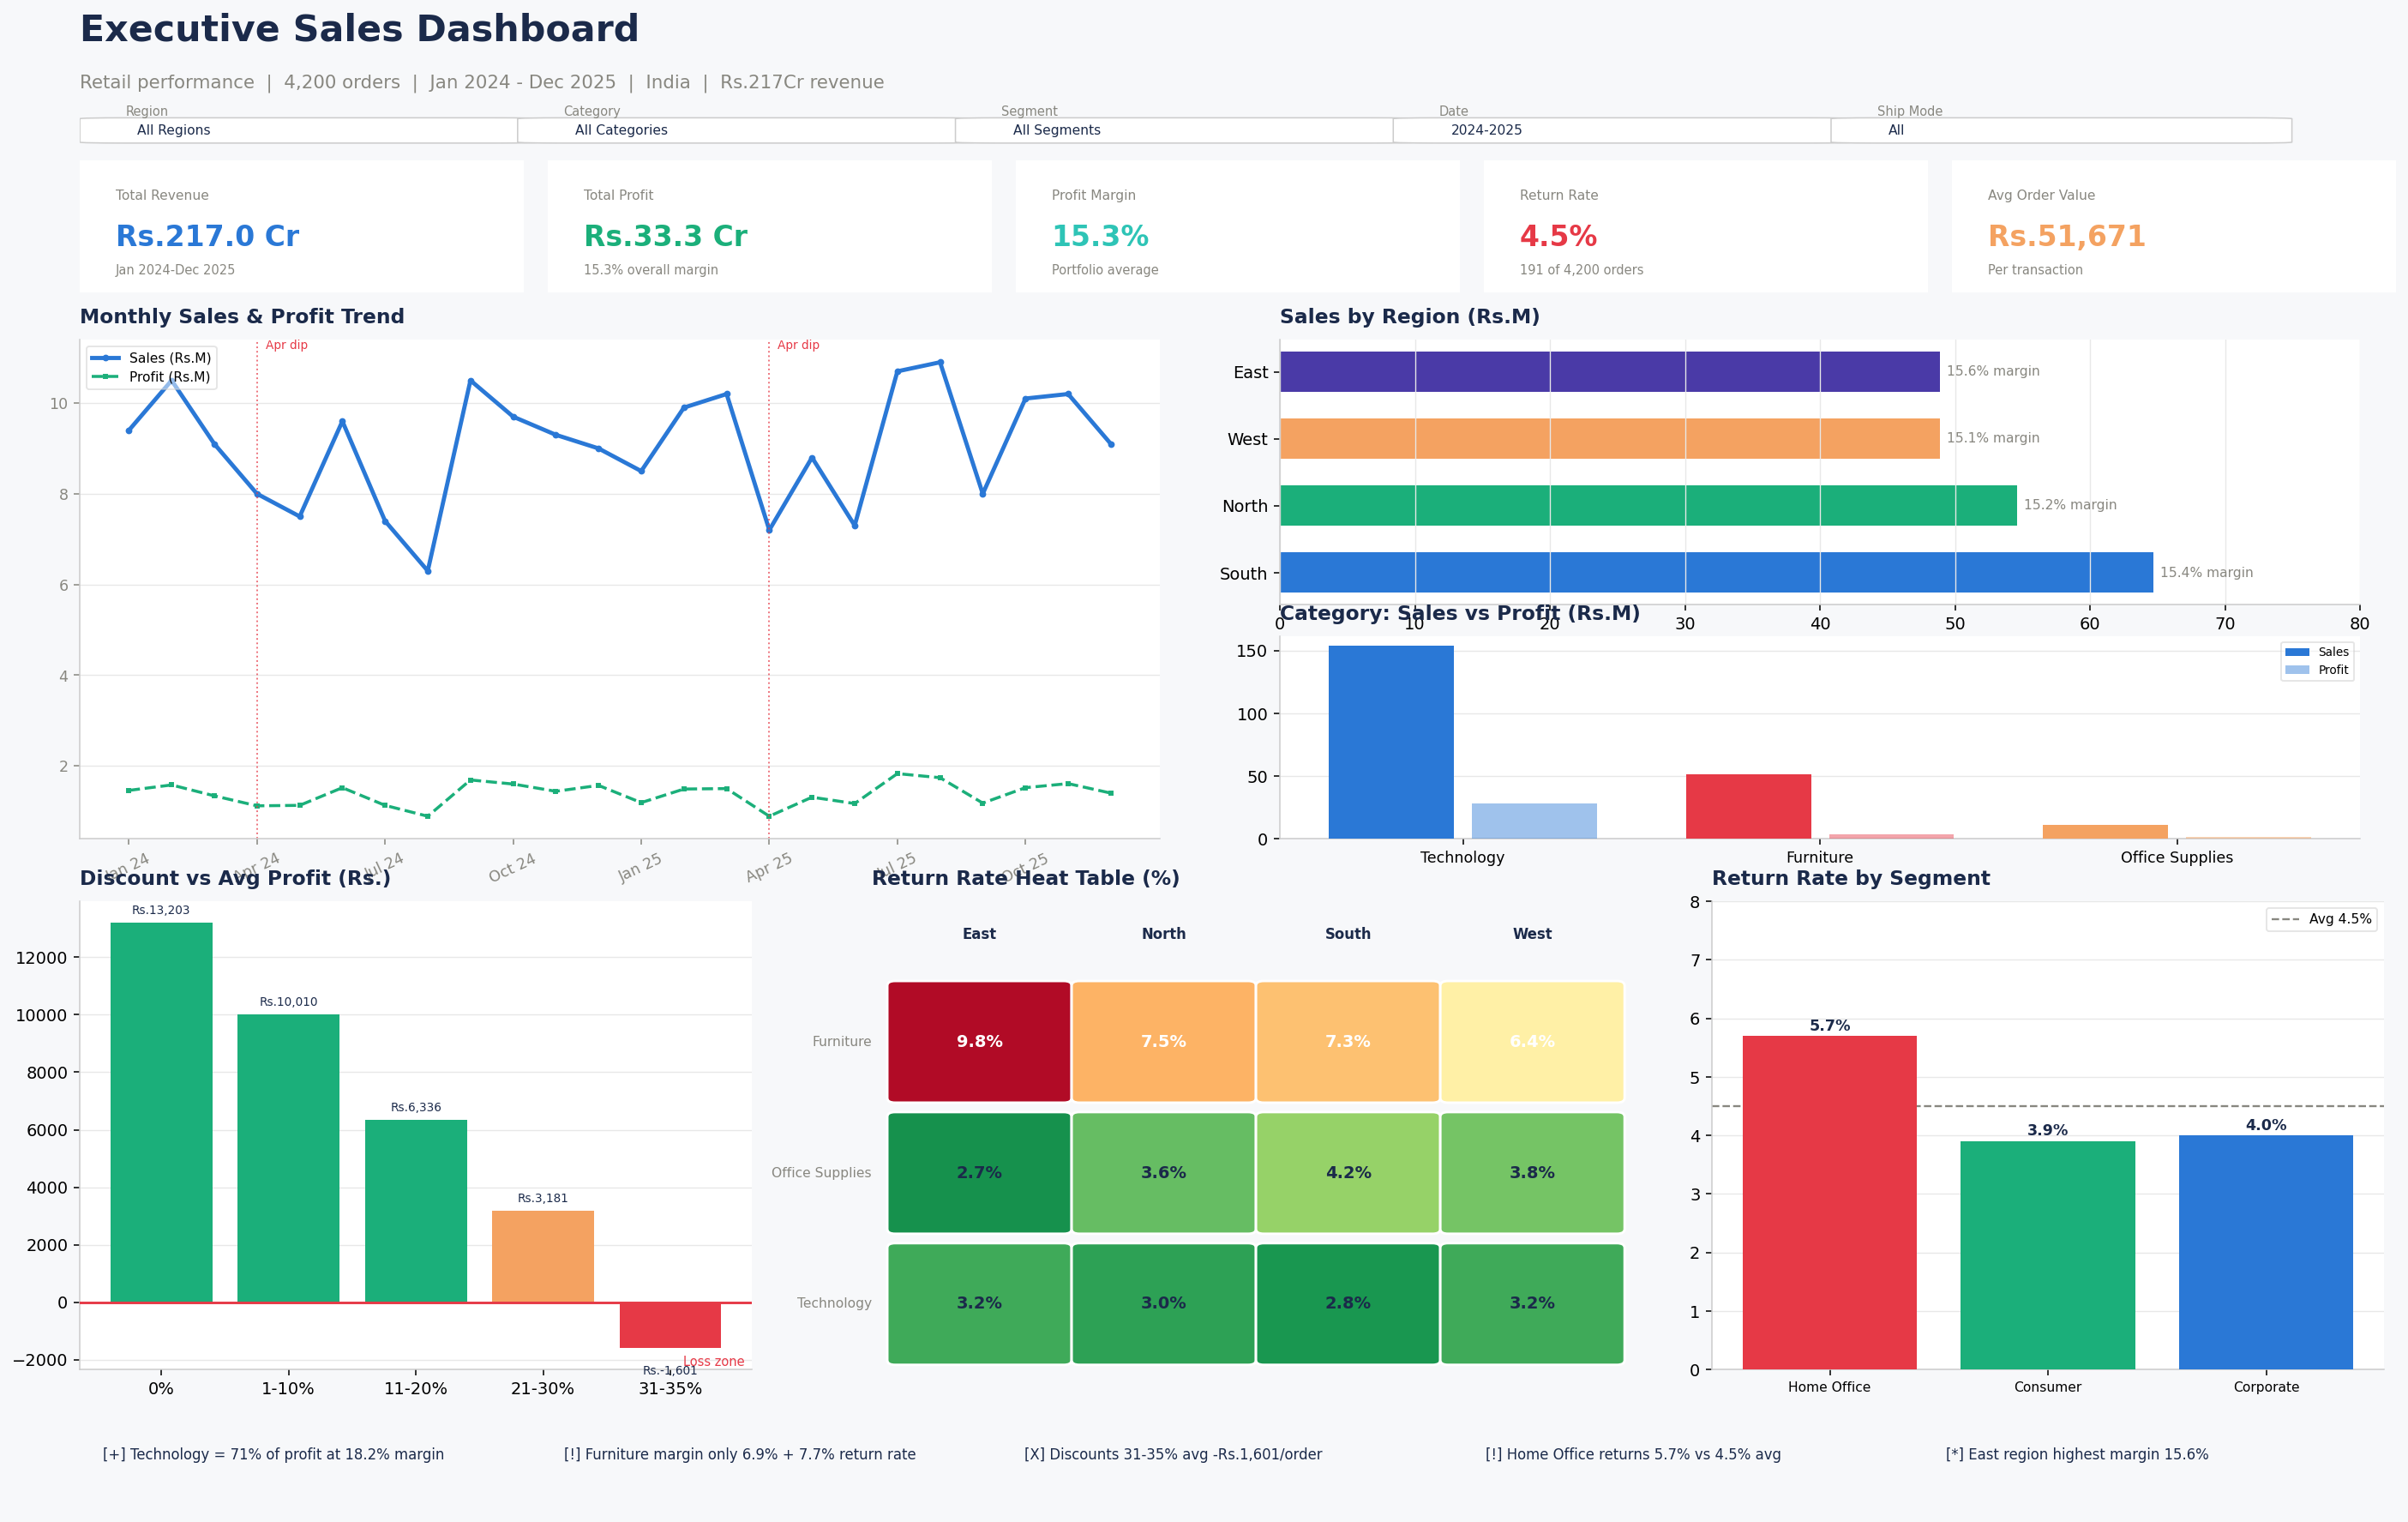

This screenshot's page, from the dashboard's own definition file:
{"tool":"tableau","page":{"name":"Executive Sales Dashboard","canvas":[1400,900],"ordinal":0},"visuals":[{"type":"title","box":[8,8,1384,51]},{"type":"worksheet","title":"Revenue","mark":"Text","box":[33,57,315,165]},{"type":"worksheet","title":"Profit Margin","mark":"Text","box":[348,57,381,165]},{"type":"worksheet","title":"Return Rate","mark":"Automatic","box":[729,57,396,165]},{"type":"legend","title":"Sales Trend","param":"[federated.1uaqsez0iasp6d17phkro1o5pl1t].[:Measure Names]","box":[1232,59,160,66]},{"type":"legend","title":"Regional Performance","param":"[federated.1uaqsez0iasp6d17phkro1o5pl1t].[none:region:nk]","box":[1232,125,160,106]},{"type":"filter","title":"Sales Trend","param":"[federated.1uaqsez0iasp6d17phkro1o5pl1t].[none:region:nk]","box":[772,226,160,119]},{"type":"filter","title":"Sales Trend","param":"[federated.1uaqsez0iasp6d17phkro1o5pl1t].[none:customer_segment:nk]","box":[880,226,160,100]},{"type":"worksheet","title":"Sales Trend","mark":"Line","rows":["sales","profit"],"cols":["order_date"],"box":[11,228,597,224]},{"type":"filter","title":"Sales Trend","param":"[federated.1uaqsez0iasp6d17phkro1o5pl1t].[none:category:nk]","box":[618,228,160,100]},{"type":"legend","title":"Category Profitability","param":"[federated.1uaqsez0iasp6d17phkro1o5pl1t].[none:category:nk]","box":[1232,231,160,86]},{"type":"legend","title":" Discount vs Profit","param":"[federated.1uaqsez0iasp6d17phkro1o5pl1t].[usr:Calculation_0518437108998150:qk]","box":[1232,317,160,65]},{"type":"filter","title":"Sales Trend","param":"[federated.1uaqsez0iasp6d17phkro1o5pl1t].[none:ship_mode:nk]","box":[623,353,160,119]},{"type":"filter","title":"Sales Trend","param":"[federated.1uaqsez0iasp6d17phkro1o5pl1t].[none:order_date:qk]","box":[771,359,160,61]},{"type":"legend","title":"Return Analysis","param":"[federated.1uaqsez0iasp6d17phkro1o5pl1t].[usr:Calculation_0518437108678659:qk]","box":[1232,382,160,65]},{"type":"worksheet","title":"Regional Performance","mark":"Automatic","rows":["region"],"cols":["sales","profit"],"box":[33,497,435,201]},{"type":"worksheet","title":"Category Profitability","mark":"Automatic","rows":["profit"],"cols":["category","sub_category"],"box":[520,531,463,201]},{"type":"worksheet","title":"Return Analysis","mark":"Square","rows":["category"],"cols":["region"],"box":[532,746,330,150]}]}

Visuals, with their boxes in screenshot pixels (x1, y1, x2, y2), scaled from the page's 1400x900 canvas onto the 2408x1522 screenshot:
title: [x1=14, y1=14, x2=2394, y2=99]
"Revenue" worksheet (Text marks): [x1=57, y1=96, x2=598, y2=376]
"Profit Margin" worksheet (Text marks): [x1=598, y1=96, x2=1254, y2=376]
"Return Rate" worksheet: [x1=1254, y1=96, x2=1935, y2=376]
"Sales Trend" legend: [x1=2119, y1=99, x2=2394, y2=212]
"Regional Performance" legend: [x1=2119, y1=212, x2=2394, y2=391]
"Sales Trend" filter: [x1=1328, y1=382, x2=1603, y2=583]
"Sales Trend" filter: [x1=1514, y1=382, x2=1789, y2=551]
"Sales Trend" worksheet (Line marks): [x1=19, y1=386, x2=1046, y2=764]
"Sales Trend" filter: [x1=1063, y1=386, x2=1338, y2=555]
"Category Profitability" legend: [x1=2119, y1=391, x2=2394, y2=536]
" Discount vs Profit" legend: [x1=2119, y1=536, x2=2394, y2=646]
"Sales Trend" filter: [x1=1072, y1=597, x2=1347, y2=798]
"Sales Trend" filter: [x1=1326, y1=607, x2=1601, y2=710]
"Return Analysis" legend: [x1=2119, y1=646, x2=2394, y2=756]
"Regional Performance" worksheet: [x1=57, y1=840, x2=805, y2=1181]
"Category Profitability" worksheet: [x1=894, y1=898, x2=1690, y2=1238]
"Return Analysis" worksheet (Square marks): [x1=915, y1=1261, x2=1483, y2=1515]
